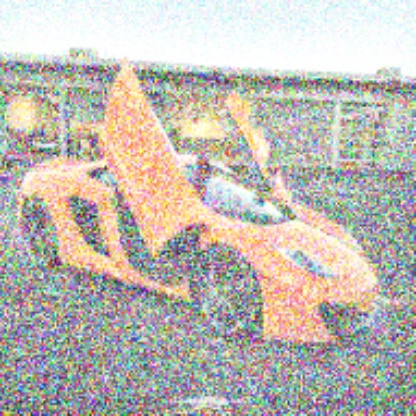Vehicle: (15, 54, 382, 348)
